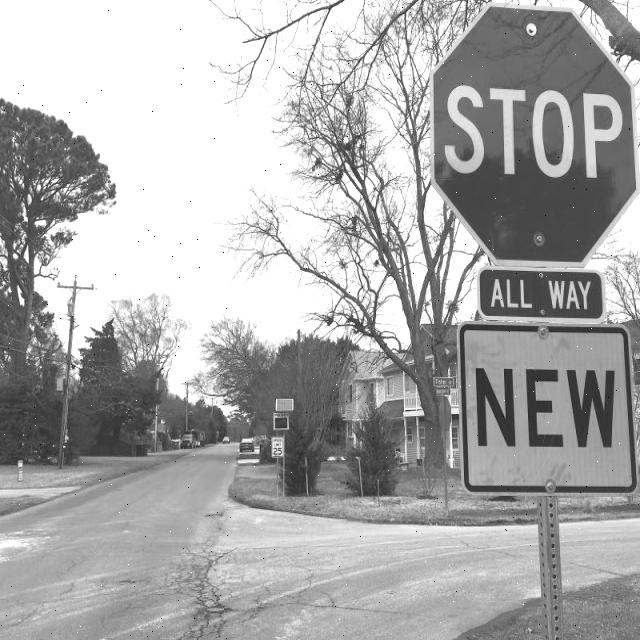Stop-sign: (410, 0, 640, 272)
